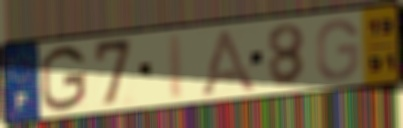7: (92, 37, 136, 111)
8: (265, 22, 308, 88)
A: (195, 25, 261, 96)
G: (38, 43, 89, 114), (314, 17, 361, 83)
I: (166, 32, 186, 102)
